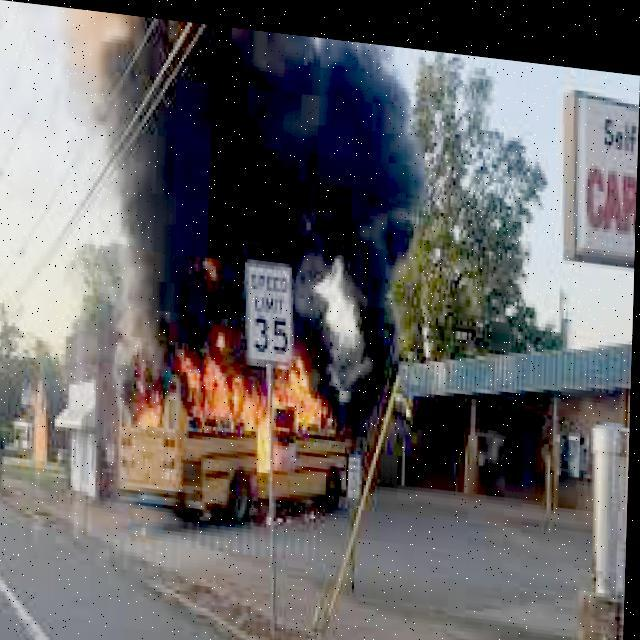Fire: (178, 283, 362, 445)
